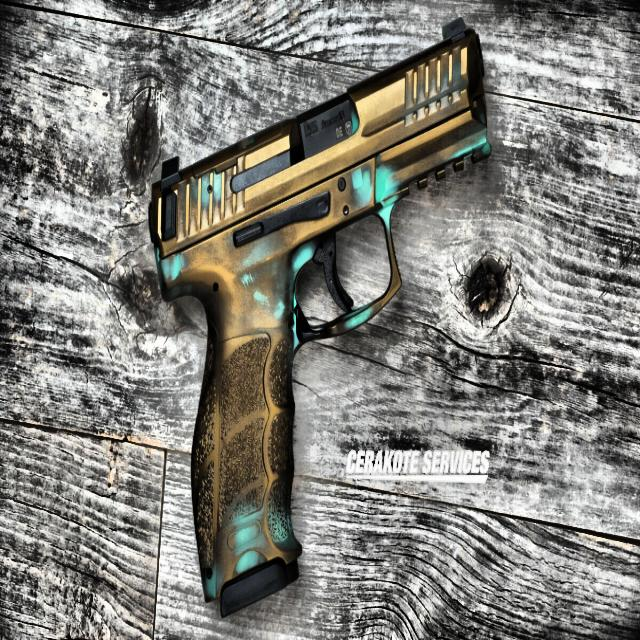HKVP9: (147, 15, 492, 618)
